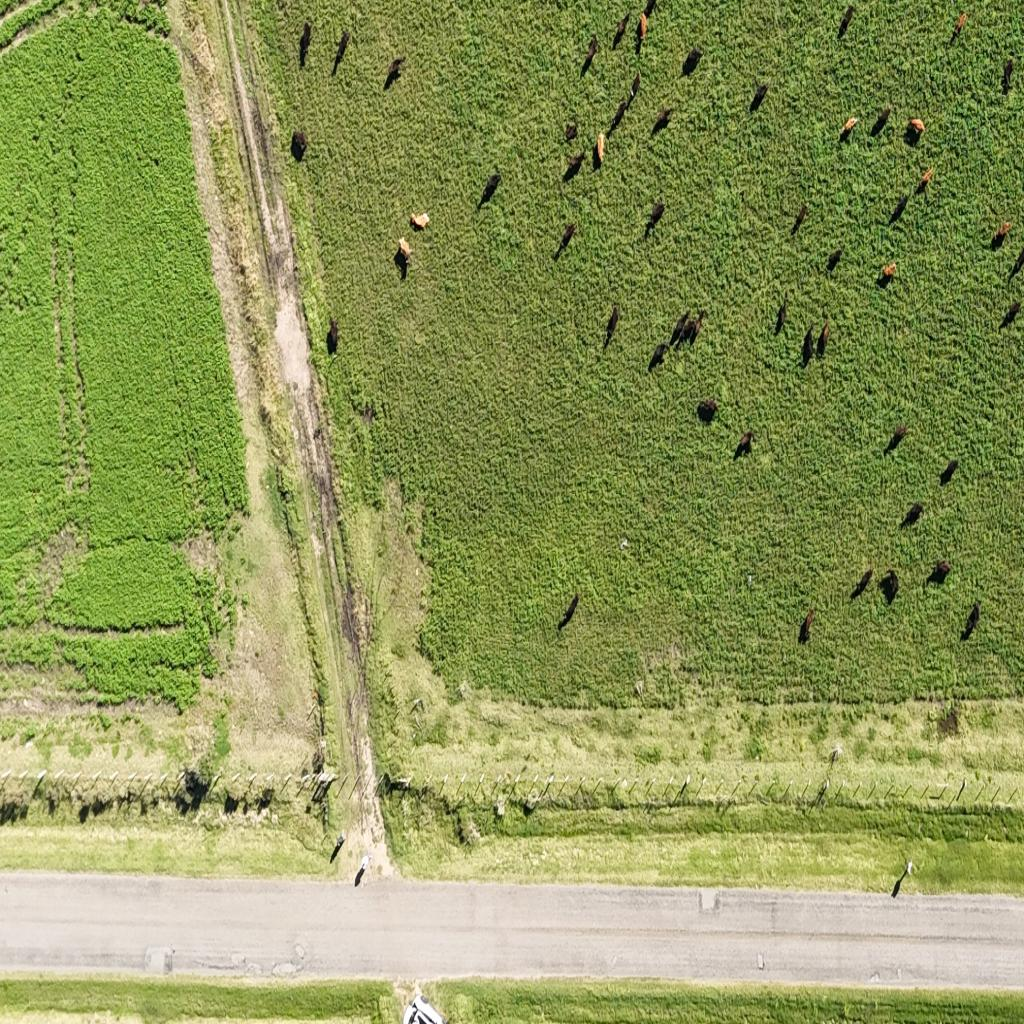cow: (289, 12, 313, 76), (834, 108, 863, 148), (401, 208, 437, 235), (480, 171, 501, 207), (646, 199, 666, 236), (682, 310, 702, 347), (558, 593, 578, 629), (670, 311, 690, 347), (334, 29, 351, 70), (999, 301, 1023, 330), (879, 569, 899, 603), (605, 302, 620, 347), (963, 601, 981, 638), (581, 35, 598, 74), (557, 222, 577, 254), (385, 56, 405, 88), (854, 568, 874, 598), (564, 152, 584, 182), (649, 342, 669, 372), (872, 104, 892, 134), (901, 502, 924, 528), (682, 47, 702, 76), (613, 14, 629, 50), (749, 82, 768, 112), (890, 193, 908, 224), (696, 399, 718, 424), (611, 99, 628, 131), (394, 248, 410, 282), (291, 130, 308, 162), (940, 458, 960, 485), (652, 105, 671, 133), (838, 4, 854, 37), (735, 430, 755, 456), (792, 202, 808, 234), (800, 608, 815, 642), (817, 320, 830, 358), (888, 426, 908, 450), (802, 326, 814, 366), (932, 558, 952, 582), (775, 299, 788, 334), (326, 317, 338, 354), (951, 11, 966, 40), (994, 220, 1011, 244), (1014, 240, 1024, 280), (1002, 58, 1014, 91), (827, 247, 842, 273), (907, 118, 925, 138), (637, 12, 647, 44), (564, 120, 578, 142), (644, 0, 658, 22), (630, 71, 640, 100), (362, 402, 374, 425), (881, 262, 896, 278), (920, 168, 932, 186), (312, 425, 322, 441), (635, 681, 643, 696)
